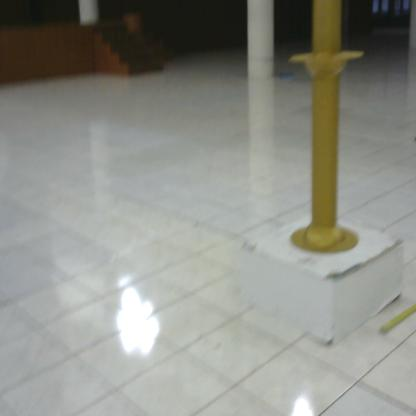pole: (283, 1, 370, 262)
